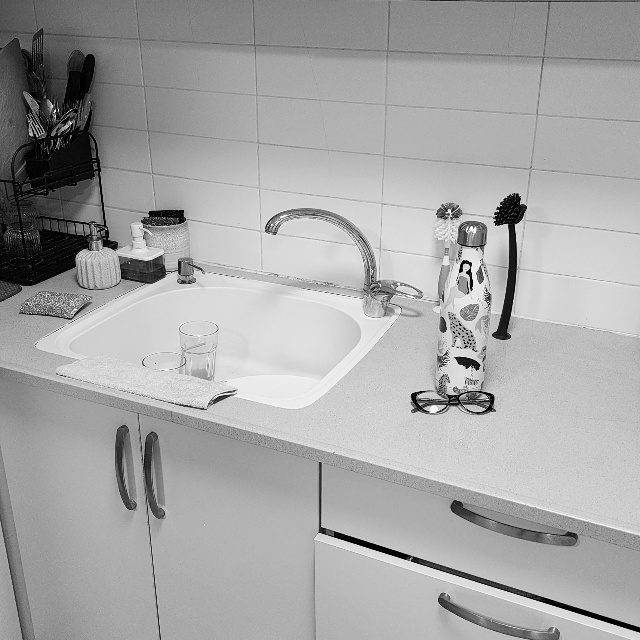glasses: (407, 388, 502, 417)
